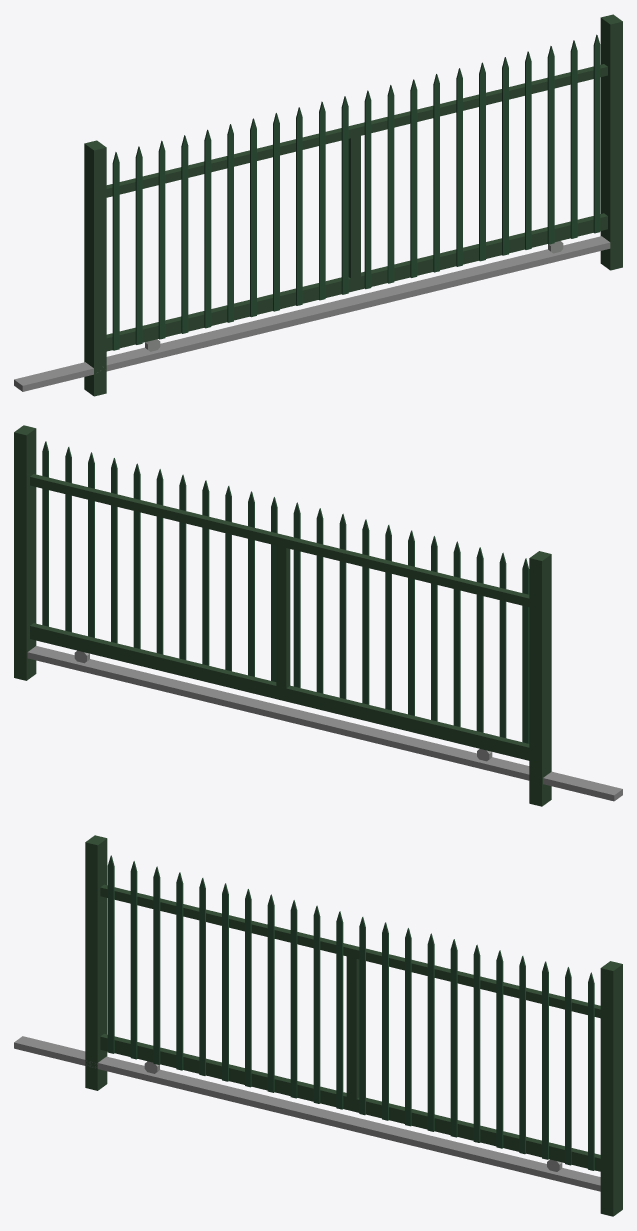
File: boundary.gate.estate_sliding_green.glb
3 views of the same model, one above another, from view 1: azimuth 30°, elevation 25°; view 2: azimuth 150°, elevation 25°; view 3: azimuth 330°, elevation 25° (orthographic).
Parts seen in each view (by area): view 1: main__galv_353, main__paint_353, main__paint_999; view 2: main__paint_353, main__galv_353, main__paint_999; view 3: main__galv_353, main__paint_353, main__paint_999.
Part boxes in pixels (left/top/right/bottom): main__galv_353: left=112, top=34, right=600, bottom=350; main__paint_353: left=84, top=14, right=622, bottom=396; main__paint_999: left=14, top=236, right=610, bottom=391; main__paint_353: left=14, top=425, right=551, bottom=806; main__galv_353: left=42, top=441, right=529, bottom=743; main__paint_999: left=27, top=646, right=622, bottom=801; main__galv_353: left=107, top=855, right=594, bottom=1170; main__paint_353: left=85, top=835, right=622, bottom=1216; main__paint_999: left=14, top=1036, right=600, bottom=1191.
Size of the model in its own units: 7.15 by 2.8 by 0.2.
